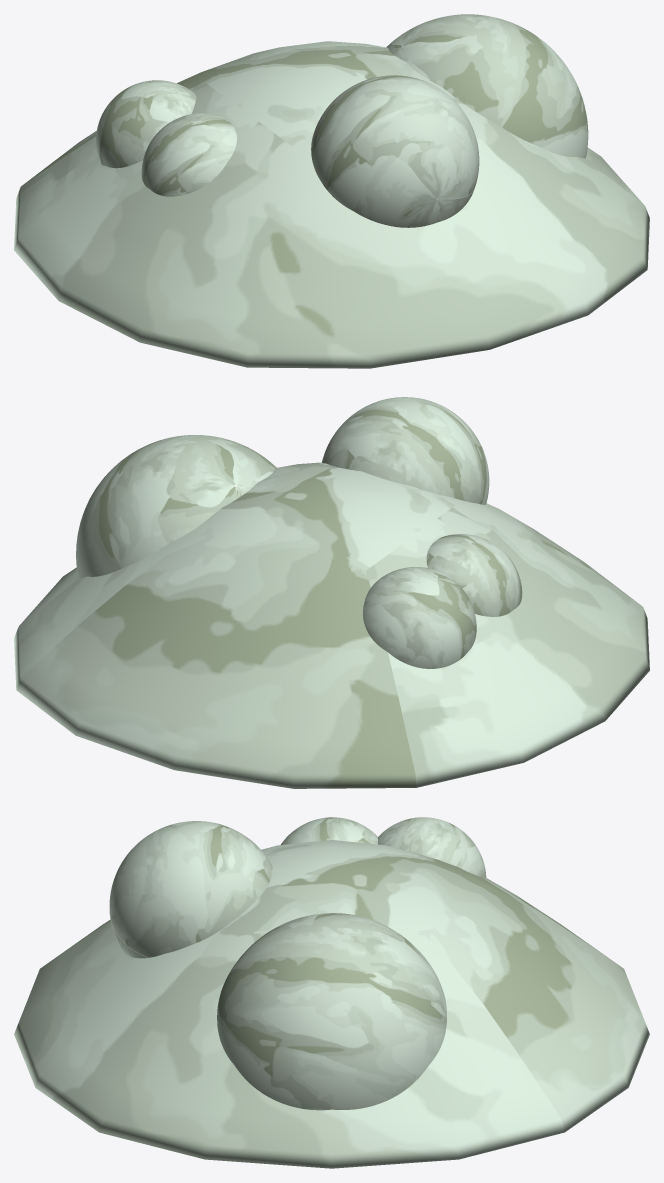
Rendered from TrollFat.fbx.
The picture shows the model from 3 angles, top to bottom: view 1: azimuth 30°, elevation 25°; view 2: azimuth 150°, elevation 25°; view 3: azimuth 270°, elevation 25°; orthographic projection.
Parts seen in each view (by area): view 1: pSphere3; view 2: pSphere3; view 3: pSphere3.
Part boxes in pixels (bbox=[...]): pSphere3: bbox=[14, 14, 649, 368]; pSphere3: bbox=[14, 397, 649, 788]; pSphere3: bbox=[14, 817, 649, 1168].
Size of the model in its own units: 5.23 by 1.97 by 5.23.
